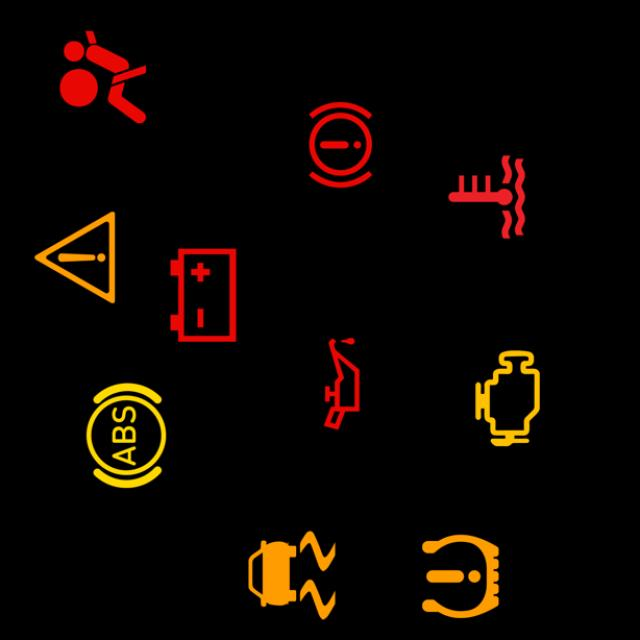Anti Lock Braking System: (69, 378, 183, 493)
Braking System Issue: (284, 88, 398, 202)
Charging System Issue: (146, 238, 261, 352)
Check Engine: (450, 341, 565, 455)
Electronic Stability Problem -ESP-: (235, 518, 349, 633)
Engine Overheating Warning Light: (430, 140, 544, 254)
Low Engine Oil Warning Light: (285, 326, 399, 441)
Low Tire Pressure Warning Light: (403, 519, 518, 634)
Master warning light: (18, 200, 132, 315)
SRS-Airbag: (46, 20, 160, 134)
